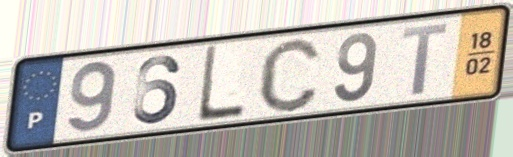6: (132, 52, 183, 127)
9: (64, 57, 121, 137), (331, 30, 380, 106)
C: (255, 35, 324, 116)
L: (194, 43, 247, 126)
T: (399, 21, 452, 99)
